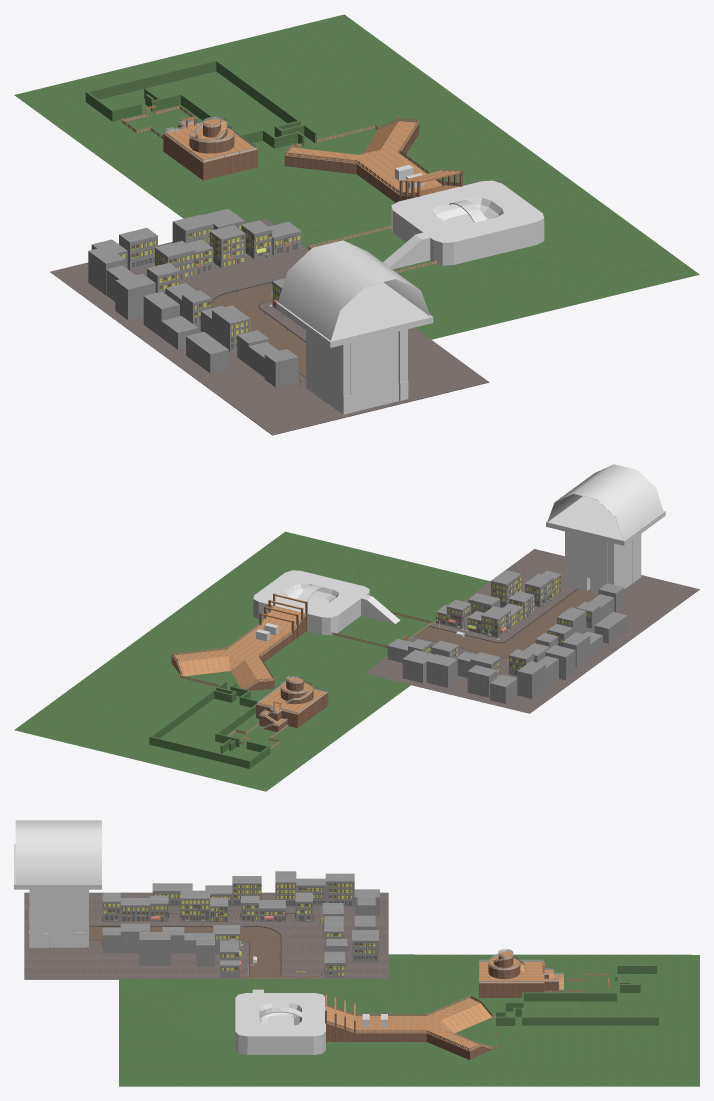
Rendered from Lvl1.fbx.
The picture shows the model from 3 angles, top to bottom: view 1: azimuth 30°, elevation 25°; view 2: azimuth 150°, elevation 25°; view 3: azimuth 270°, elevation 25°; orthographic projection. The views are drawn at different scales.
Parts seen in each view (by area): view 1: Plane.012, Road, Lvl_1.1, Arena, Cube.007, GrassRailings_High, Base_1, Plane.047, Town.028, Town.032, Circle_D, Town.033 (+14 smaller); view 2: Plane.012, Road, Lvl_1.1, Cube.007, Arena, GrassRailings_High, Plane.047, Base_1, Town.024, Town.023, Town.022, Town.026 (+12 smaller); view 3: Plane.012, Road, Lvl_1.1, Arena, Cube.007, Plane.047, GrassRailings_High, Base_1, Town.031, Railings_2.002, Town.024, Circle_D (+18 smaller).
Part boxes in pixels (box(x1,y1,x2,y2)): Plane.012: box(14, 14, 699, 339); Road: box(50, 219, 489, 435); Lvl_1.1: box(276, 240, 433, 414); Arena: box(391, 180, 544, 265); Cube.007: box(284, 121, 459, 202); GrassRailings_High: box(85, 60, 300, 143); Base_1: box(163, 124, 257, 180); Plane.047: box(119, 224, 300, 349); Town.028: box(115, 273, 155, 320); Town.032: box(186, 332, 228, 373); Circle_D: box(189, 119, 234, 153); Town.033: box(264, 349, 298, 387); Plane.012: box(14, 531, 489, 791); Road: box(364, 549, 699, 713); Lvl_1.1: box(546, 464, 665, 593); Cube.007: box(171, 606, 306, 690); Arena: box(253, 570, 369, 635); GrassRailings_High: box(149, 690, 270, 768); Plane.047: box(423, 576, 590, 677); Base_1: box(256, 687, 328, 728); Town.024: box(517, 661, 545, 698); Town.023: box(426, 654, 457, 687); Town.022: box(402, 649, 434, 683); Town.026: box(467, 665, 497, 697); Plane.012: box(119, 954, 699, 1086); Road: box(24, 892, 388, 979); Lvl_1.1: box(14, 820, 101, 947); Arena: box(235, 993, 325, 1054); Cube.007: box(327, 998, 492, 1059); Plane.047: box(103, 883, 376, 975); GrassRailings_High: box(522, 965, 658, 1025); Base_1: box(479, 961, 544, 997); Town.031: box(139, 932, 170, 965); Railings_2.002: box(327, 996, 495, 1050); Town.024: box(325, 873, 354, 907); Circle_D: box(488, 951, 524, 979).
Bounding box in the file's own units: 22193 × 6748 × 33241.
Materials: 14 (12 with a texture image).
